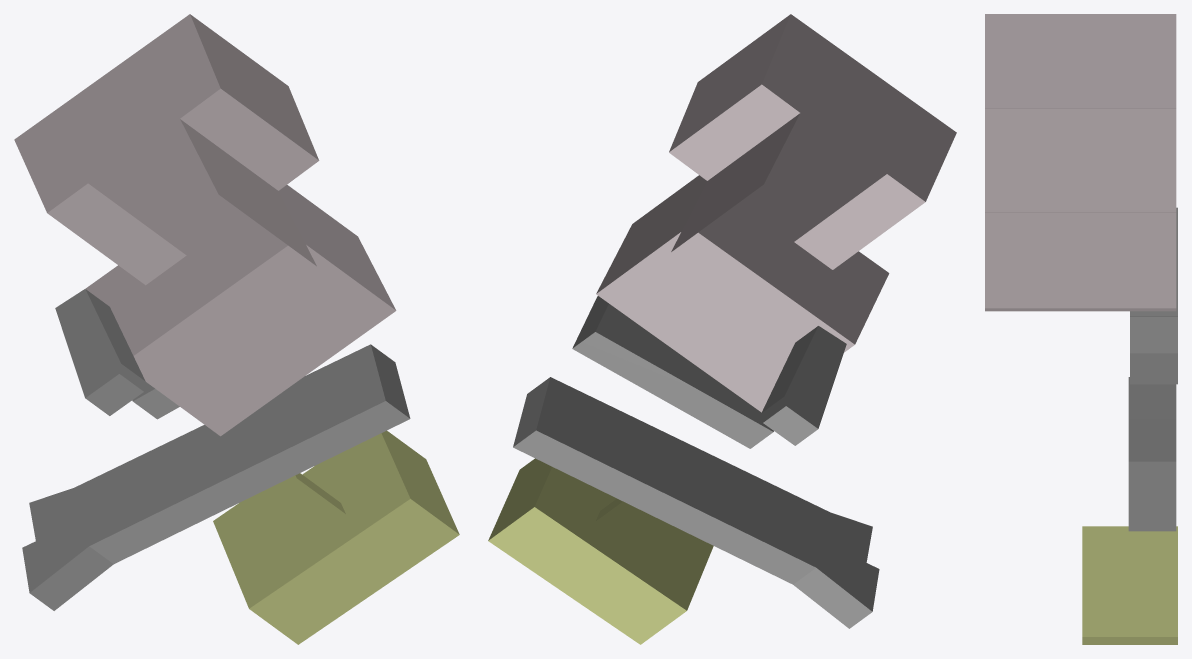
3 views of the same model, side by side, from view 1: azimuth 30°, elevation 25°; view 2: azimuth 150°, elevation 25°; view 3: azimuth 270°, elevation 25° (orthographic). The views are drawn at different scales.
Visible parts, largest first — view 1: 0_1_0_2_1_3_2_0_2; view 2: 0_1_0_2_1_3_2_0_2; view 3: 0_1_0_2_1_3_2_0_2.
Boxes of the visible parts, x1=… form: 0_1_0_2_1_3_2_0_2: x1=14, y1=14, x2=459, y2=644; 0_1_0_2_1_3_2_0_2: x1=488, y1=14, x2=956, y2=644; 0_1_0_2_1_3_2_0_2: x1=985, y1=14, x2=1177, y2=644.
Bounding box in the file's own units: 27.91 × 40.97 × 12.1.
